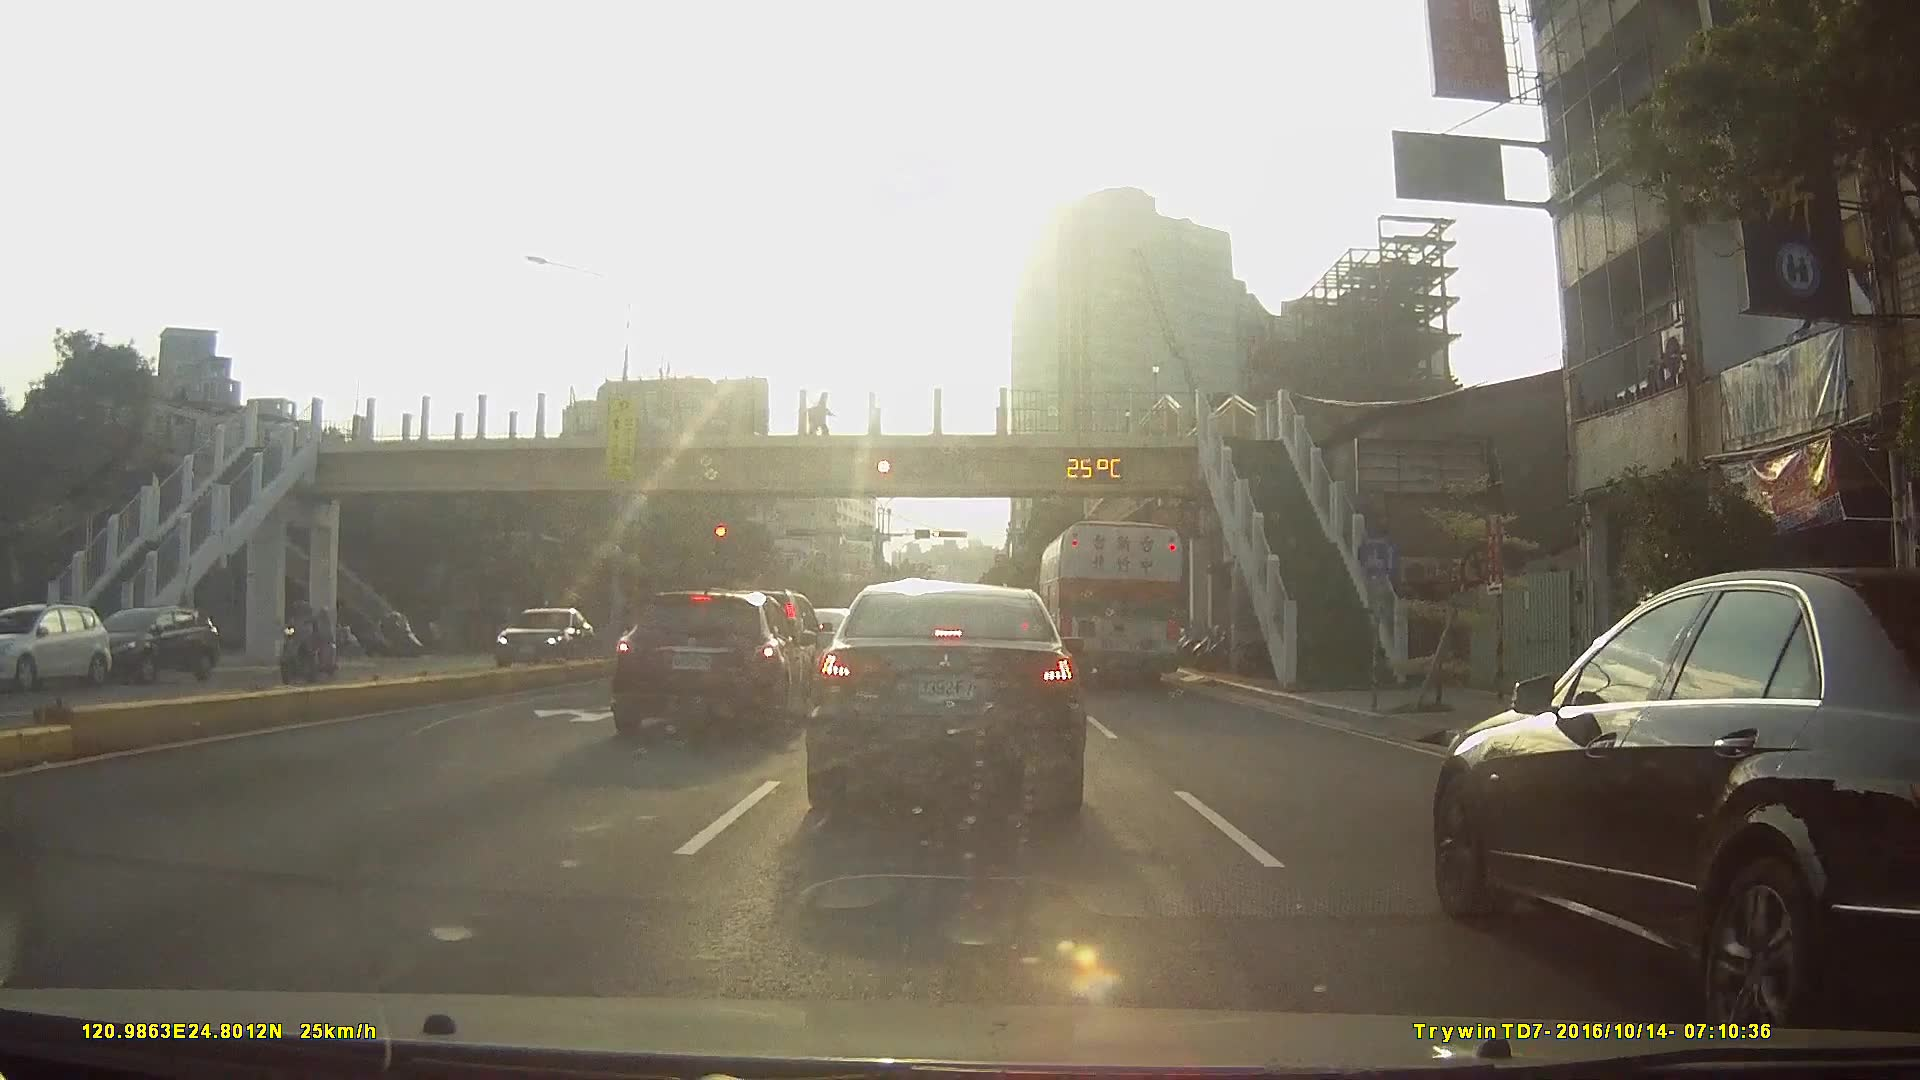pedestrian: (811, 393, 833, 441)
rider: (276, 597, 324, 687), (365, 611, 432, 657)
vehicle: (1425, 565, 1920, 1036), (803, 578, 1087, 816), (605, 585, 815, 739), (1038, 518, 1187, 690), (81, 602, 215, 681), (0, 600, 111, 690), (484, 606, 590, 666)
